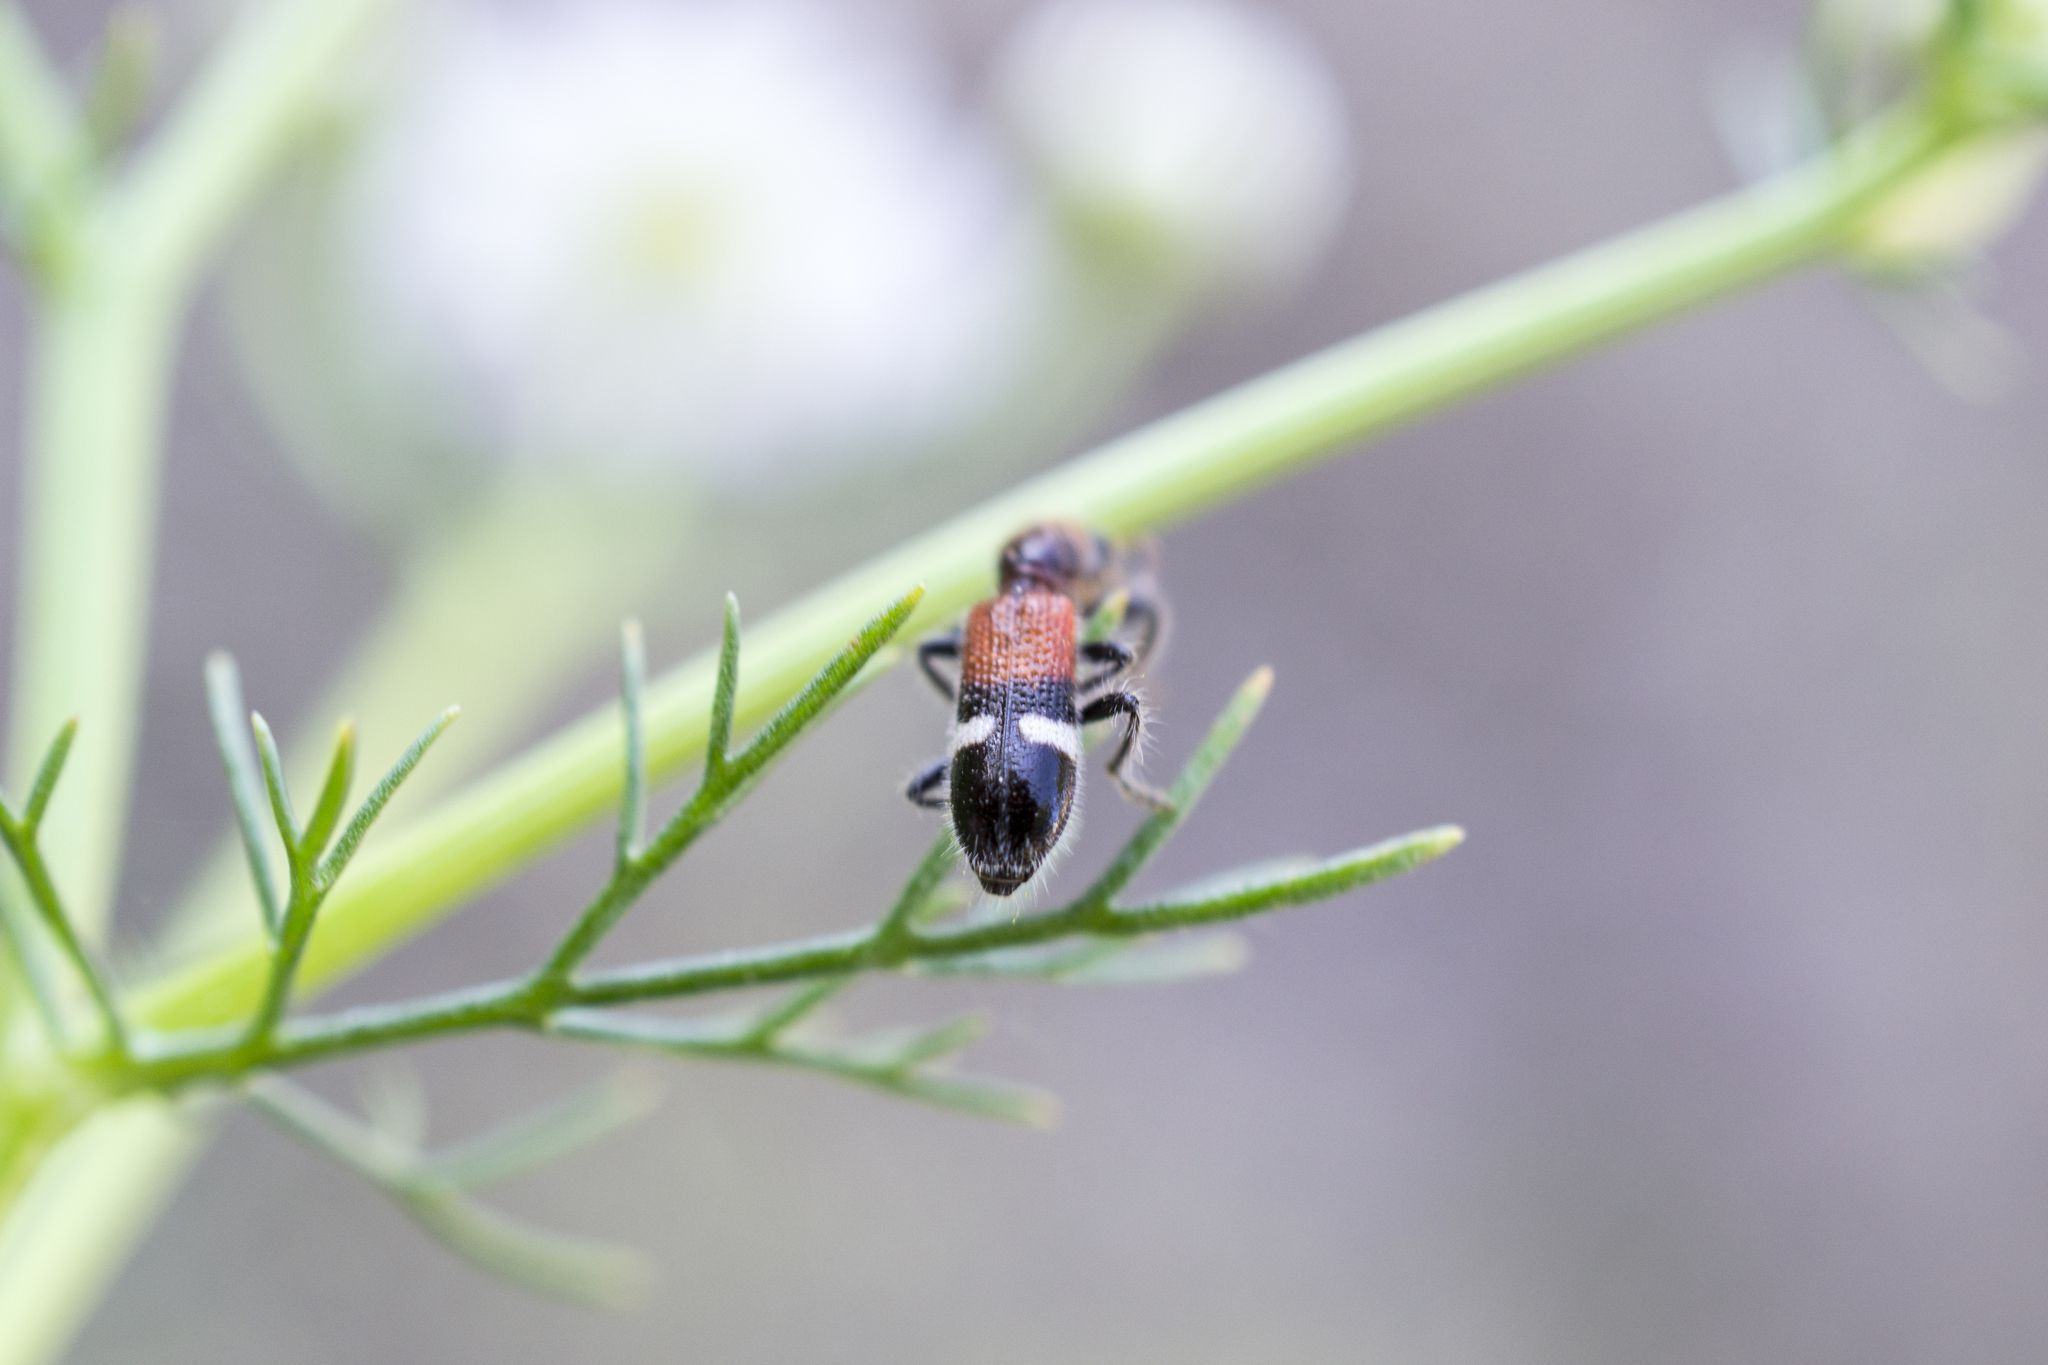opilo_taeniatus: (901, 507, 1169, 903)
